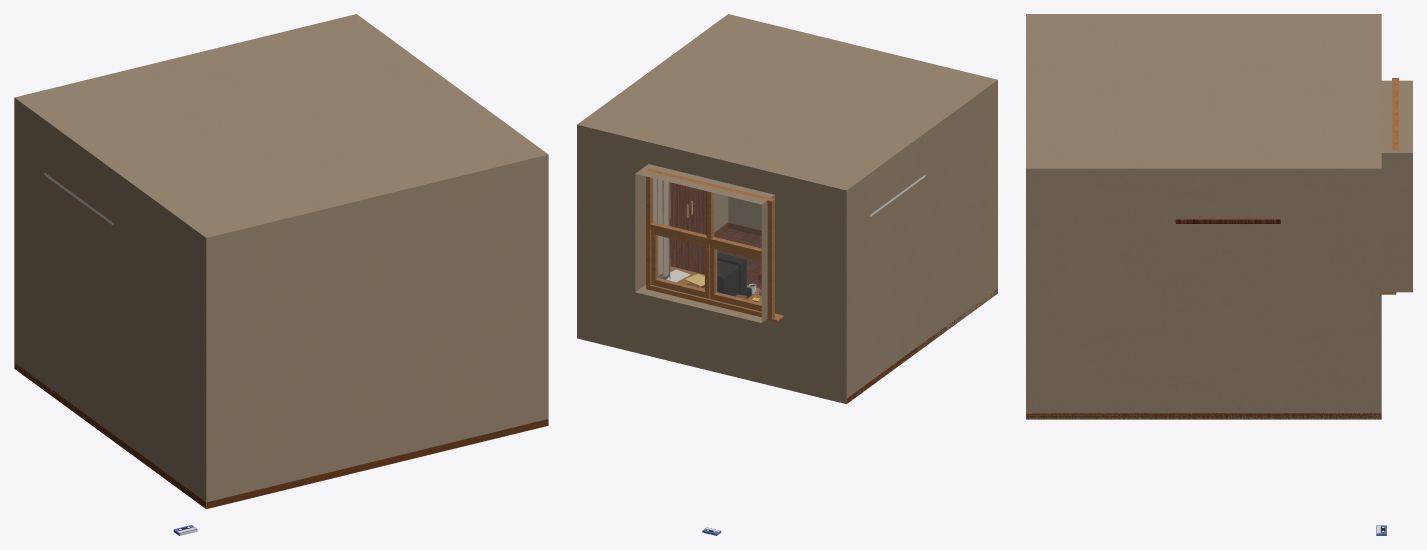
Rendered from room.glb.
The picture shows the model from 3 angles, left to right: view 1: azimuth 30°, elevation 25°; view 2: azimuth 150°, elevation 25°; view 3: azimuth 270°, elevation 25°; orthographic projection. The views are drawn at different scales.
Parts seen in each view (by area): view 1: Wall_Back, Ceiling, Wall_Left, Skirting; view 2: Wall_Window, Ceiling, Wall_Left, Window_Frame, Wardrobe, Glass_TR, Glass_TL, Glass_R, Glass_L, Curtain_R, TV_Shell, Skirting (+3 smaller); view 3: Wall_Right, Ceiling, Wall_Window, Skirting, Wardrobe, Window_Frame.
Part boxes in pixels (box(x1,y1,x2,y2)): Wall_Back: box(206, 154, 548, 509); Ceiling: box(14, 14, 548, 237); Wall_Left: box(14, 98, 206, 508); Skirting: box(14, 362, 548, 508); Wall_Window: box(577, 125, 846, 403); Ceiling: box(577, 14, 997, 190); Wall_Left: box(846, 80, 997, 403); Window_Frame: box(646, 168, 774, 319); Wardrobe: box(670, 182, 706, 274); Glass_TR: box(652, 178, 706, 235); Glass_TL: box(713, 193, 761, 248); Glass_R: box(657, 235, 704, 289); Glass_L: box(716, 250, 761, 303); Curtain_R: box(653, 178, 670, 280); TV_Shell: box(717, 252, 746, 293); Skirting: box(714, 222, 997, 403); Wall_Right: box(1026, 168, 1381, 419); Ceiling: box(1026, 14, 1381, 168); Wall_Window: box(1381, 80, 1412, 292); Skirting: box(1026, 413, 1381, 419); Wardrobe: box(1175, 219, 1280, 223); Window_Frame: box(1392, 78, 1399, 150).
Bounding box in the file's own units: 3.51 × 4.65 × 3.7.
80 materials, 24 textured.
